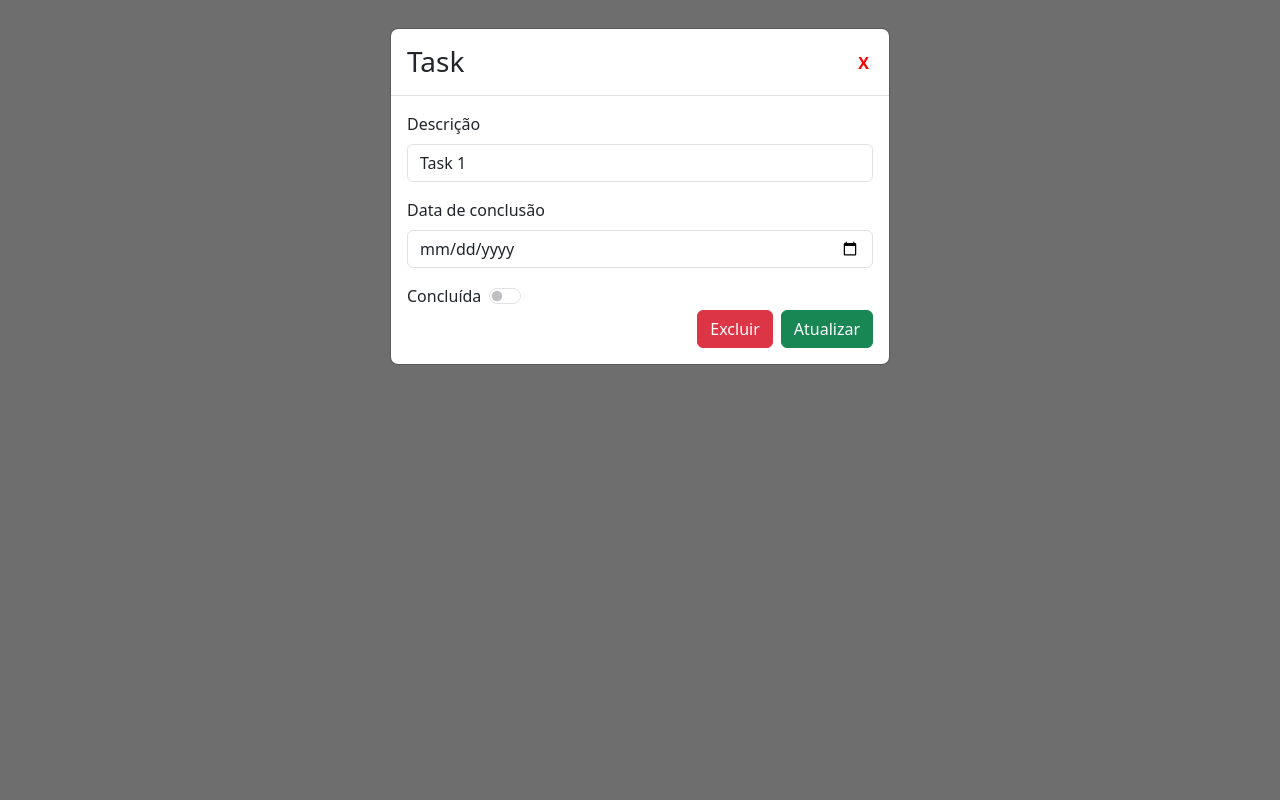
it: TaskForm › Should render error message when update task
Replace the text in the field with "test" at (640, 163), box [407,144,873,182]
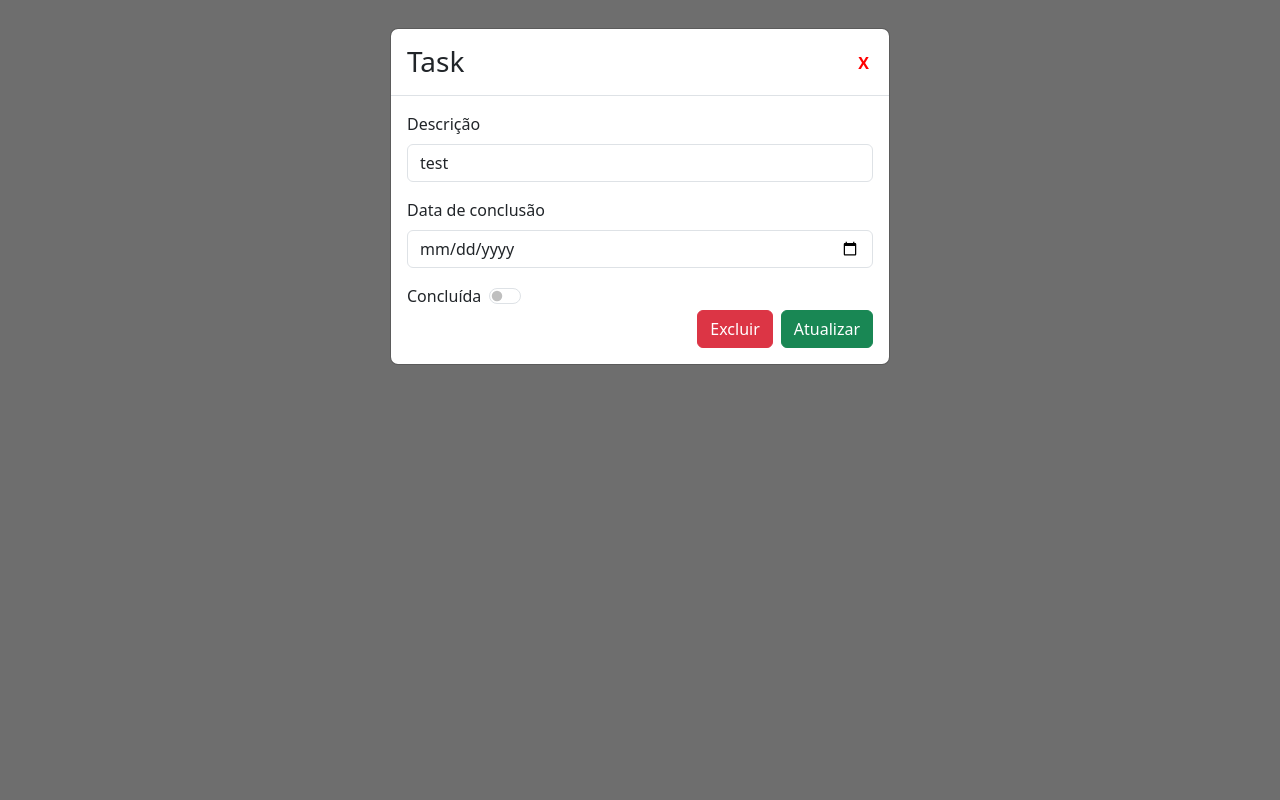
Type "2026-01-01" into the date field with placeholder "Insira a data".
click(640, 249); type("2026-01-01")  # box [407,230,873,268]
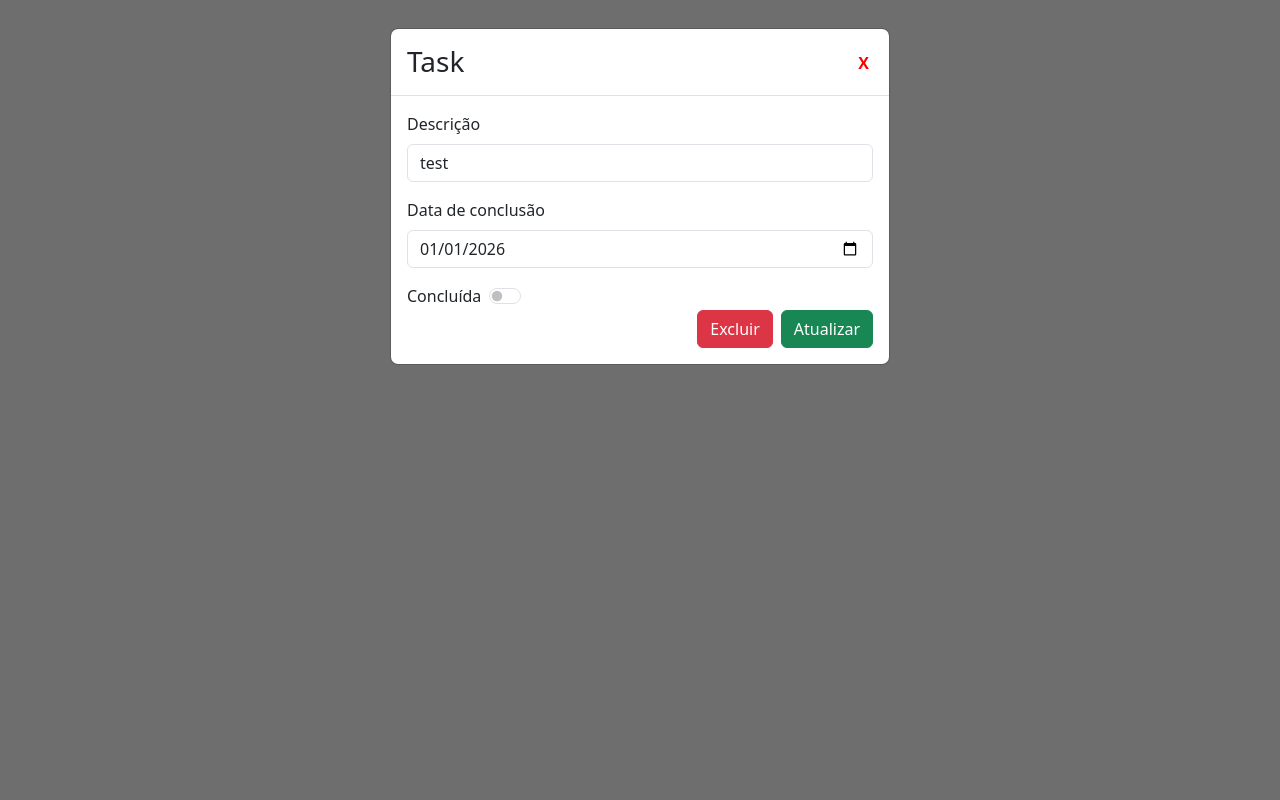
Click the button "Atualizar".
click(827, 329)  # box [781,310,873,348]
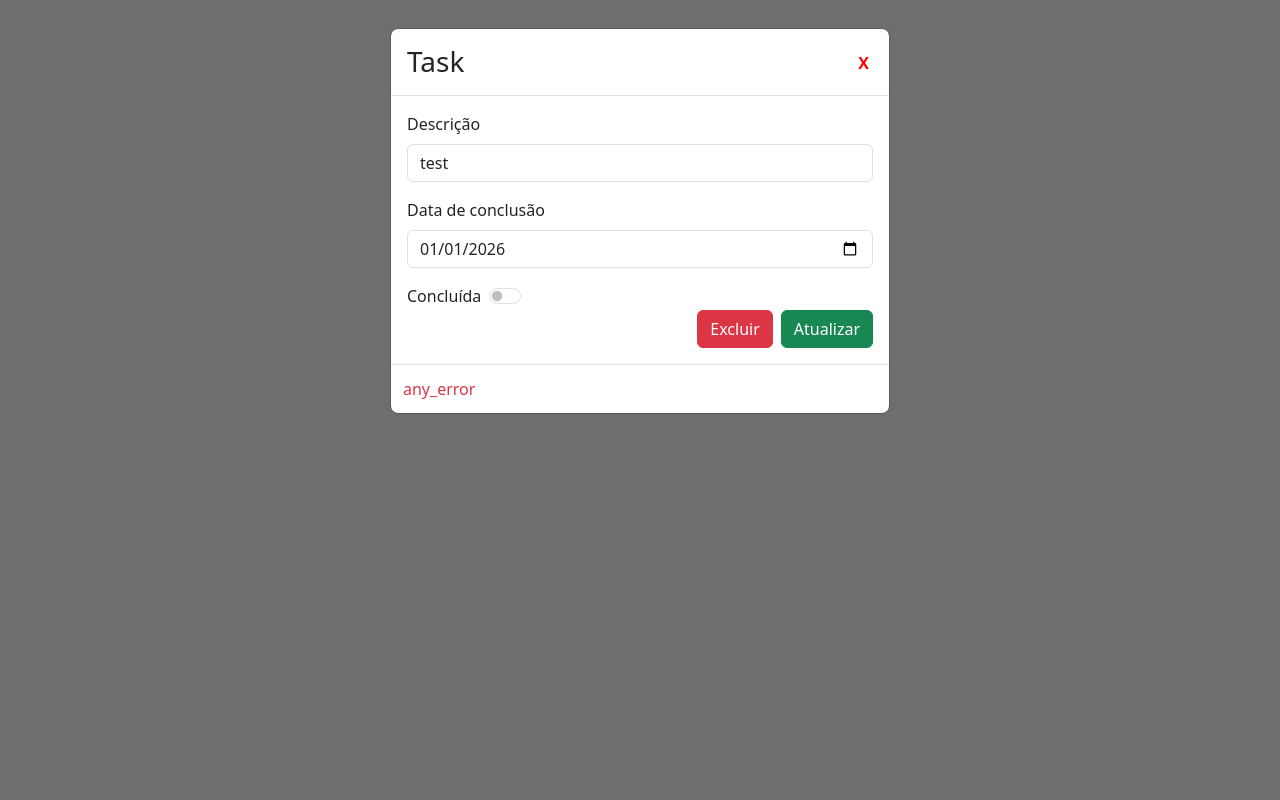
Expected: the text "any_error" is shown, [391,364,889,413]
